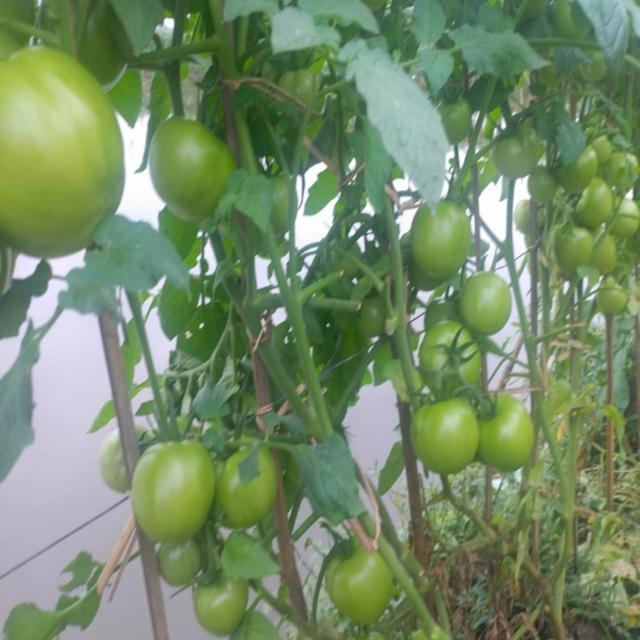tomato: (6, 43, 124, 256), (131, 441, 217, 541), (155, 122, 231, 226), (476, 390, 536, 481), (328, 544, 397, 623), (414, 399, 477, 473), (412, 205, 476, 273), (459, 270, 518, 334), (421, 327, 484, 386), (186, 569, 246, 629), (220, 452, 269, 523), (159, 539, 202, 588), (280, 61, 327, 104), (429, 290, 467, 337), (492, 137, 531, 179), (597, 285, 636, 327), (231, 608, 282, 640), (558, 230, 590, 279), (443, 101, 475, 147), (102, 438, 129, 492), (271, 179, 296, 236), (524, 165, 559, 205), (581, 184, 610, 231), (594, 236, 616, 288), (562, 156, 595, 189), (614, 202, 640, 242), (513, 198, 533, 242), (591, 138, 613, 170), (555, 4, 573, 41)
